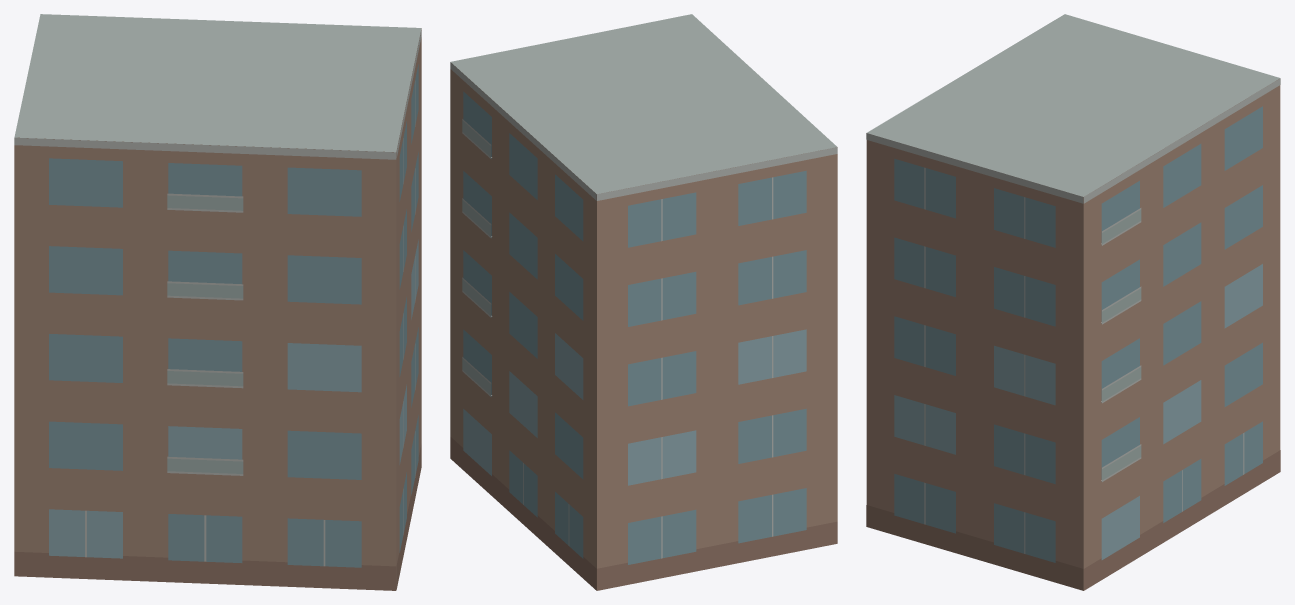
Rendered from survey-upis-32960291.glb.
3 views of the same model, side by side, from view 1: azimuth 30°, elevation 25°; view 2: azimuth 150°, elevation 25°; view 3: azimuth 270°, elevation 25° (orthographic). The views are drawn at different scales.
Visible parts, largest first — view 1: survey-upis-32960291.tmp; view 2: survey-upis-32960291.tmp; view 3: survey-upis-32960291.tmp.
Boxes of the visible parts, bbox=[...] form: survey-upis-32960291.tmp: bbox=[14, 14, 421, 590]; survey-upis-32960291.tmp: bbox=[450, 14, 837, 590]; survey-upis-32960291.tmp: bbox=[866, 14, 1280, 590].
Bounding box in the file's own units: 14.06 × 14.1 × 13.44.
